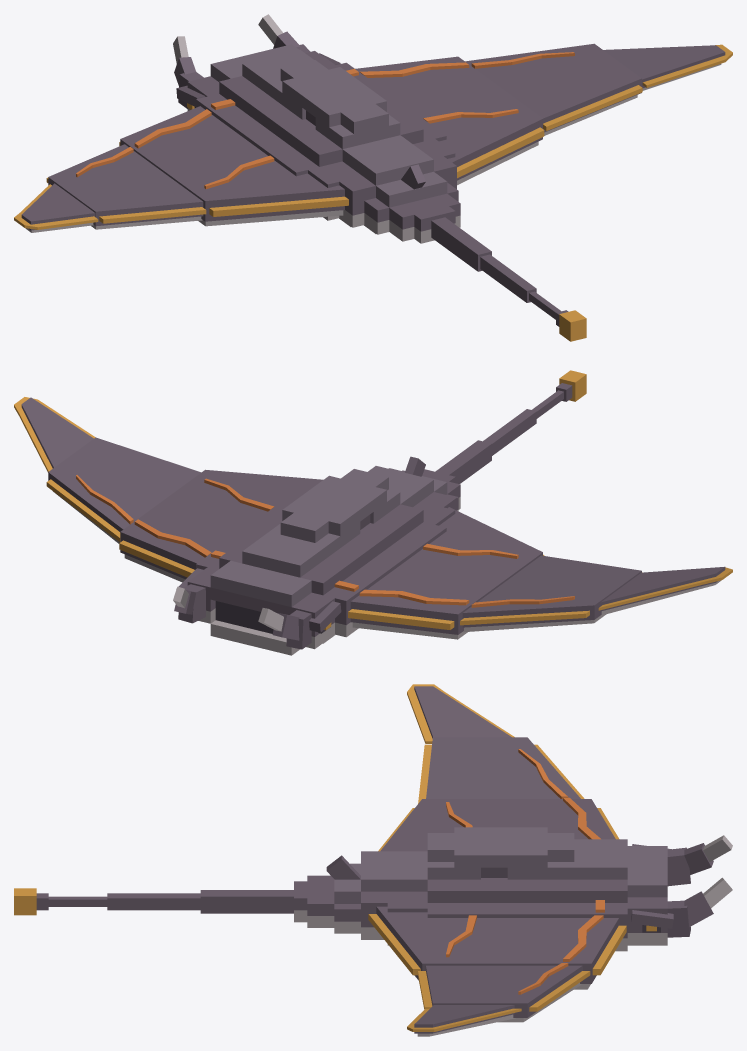
File: CinderRay.glb
The picture shows the model from 3 angles, top to bottom: view 1: azimuth 30°, elevation 25°; view 2: azimuth 150°, elevation 25°; view 3: azimuth 270°, elevation 25°; orthographic projection.
Parts seen in each view (by area): view 1: Body, WingL1, WingR1, WingR2, WingL2, WingR3, WingL1_Glow, WingR1_Glow, WingL3, Tail1, WingR2_Glow, WingL2_Glow (+6 smaller); view 2: Body, WingL1, WingR1, WingR2, WingL2, WingL3, WingL1_Glow, WingR3, WingR1_Glow, WingL2_Glow, HornL, Tail1 (+7 smaller); view 3: Body, WingR1, WingL2, WingL1, WingR2, WingL3, WingR1_Glow, Tail1, WingR3, HornL, HornR, Tail2 (+7 smaller).
Boxes of the visible parts, x1,y1,x2,y2 form: Body: (176,44,460,243); WingL1: (120,106,344,226); WingR1: (355,56,542,185); WingR2: (465,43,641,135); WingL2: (48,144,203,229); WingR3: (603,45,725,90); WingL1_Glow: (119,109,348,216); WingR1_Glow: (360,62,544,178); WingL3: (21,183,95,232); Tail1: (431,217,491,271); WingR2_Glow: (471,52,642,130); WingL2_Glow: (46,147,206,223); Body: (178,456,460,655); WingL1: (350,507,542,639); WingR1: (120,469,323,582); WingR2: (48,437,200,543); WingL2: (462,555,641,632); WingL3: (600,566,725,615); WingL1_Glow: (348,543,544,629); WingR3: (21,397,93,468); WingR1_Glow: (119,478,274,577); WingL2_Glow: (460,572,642,625); HornL: (258,608,311,649); Tail1: (435,440,491,483); Body: (294,827,673,951); WingR1: (376,906,618,989); WingL2: (426,737,580,798); WingL1: (380,799,615,851); WingR2: (425,965,582,1022); WingL3: (414,686,511,738); WingR1_Glow: (368,914,626,975); Tail1: (200,890,293,913); WingR3: (414,1005,515,1036); HornL: (667,835,732,886); HornR: (667,877,732,937); Tail2: (107,893,200,910).
Bounding box in the file's own units: 24.48 × 2.8 × 21.56.
